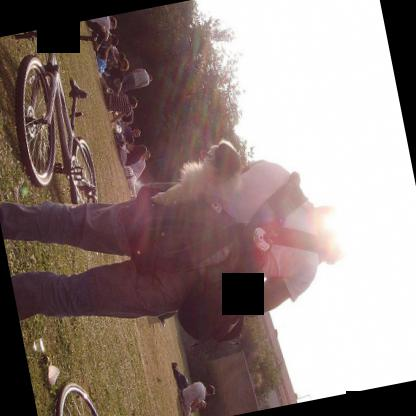backpack: (171, 172, 311, 353)
